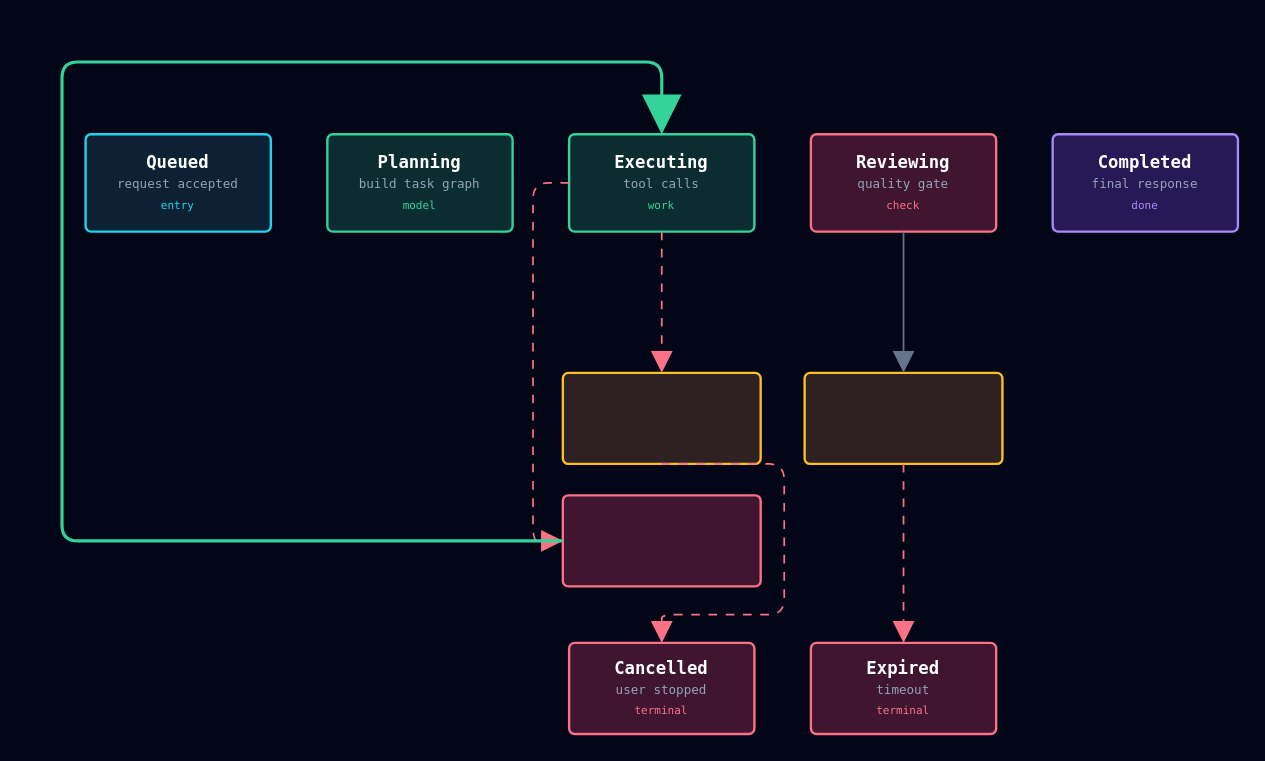
Some shapes in this 1265 by 761 pixel diagram are drawn without their labels. The centre of each missing label's shape, as x and y in pixels:
"Blocked missing input wait" belongs at (903,417).
"Failed recoverable error retryable" belongs at (661,540).
"Needs Approval human gate pause" belongs at (661,417).
